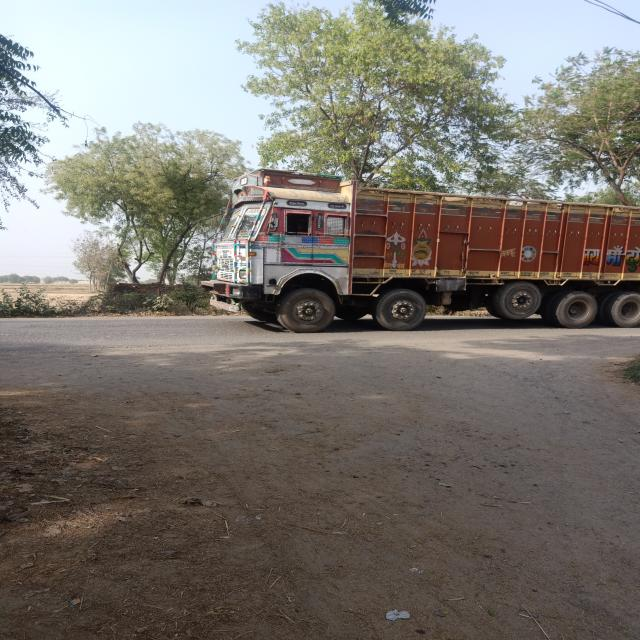Truck: (206, 171, 637, 334)
